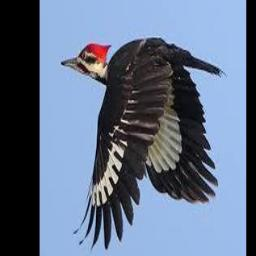Woodpecker: (61, 36, 228, 249)
